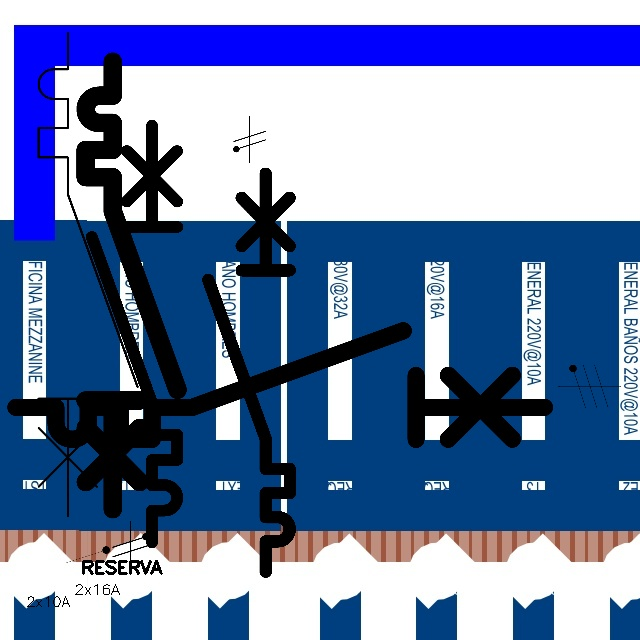interruptor_termomagnetico: (2, 317, 558, 453), (26, 20, 150, 529), (74, 50, 189, 521), (81, 115, 188, 553), (198, 163, 300, 582)
